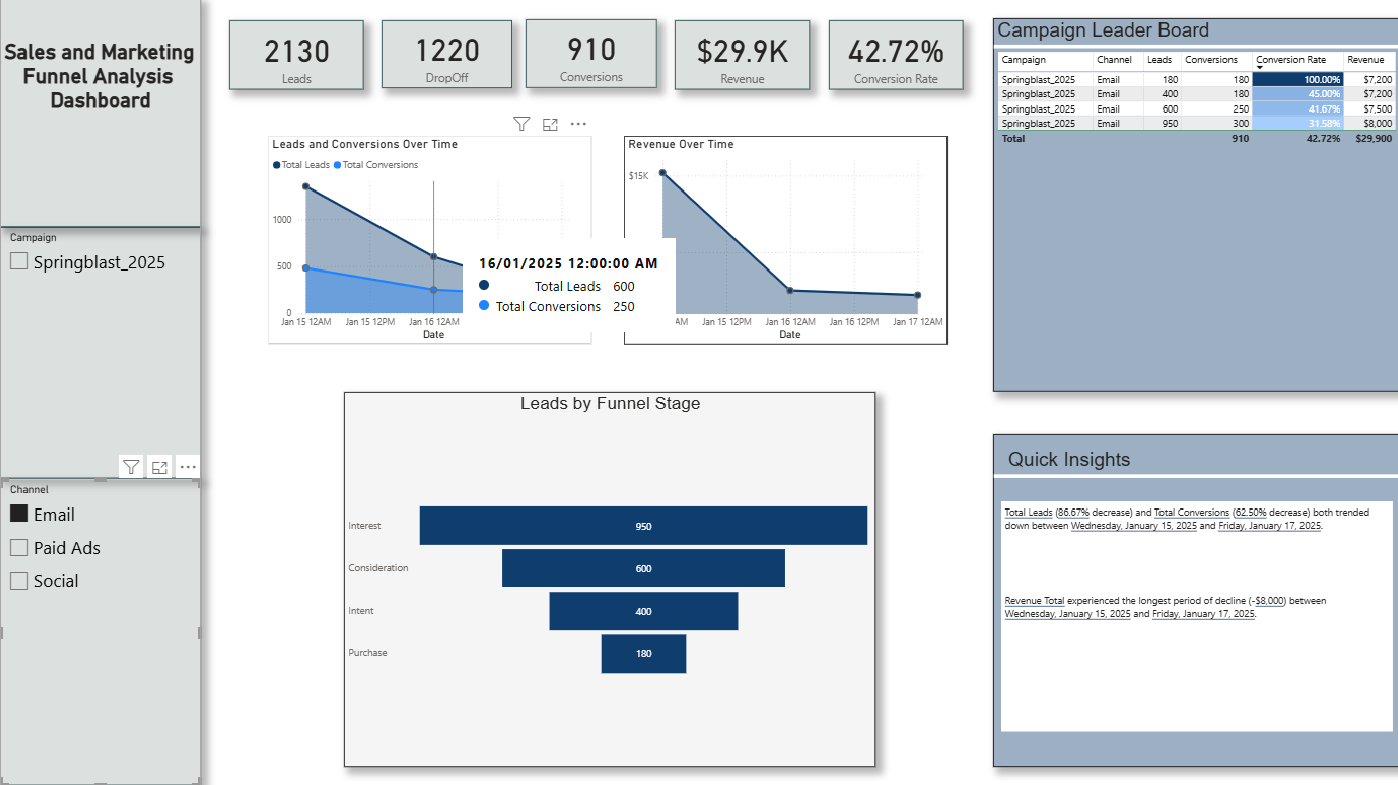

This screenshot's page, from the dashboard's own definition file:
{"tool":"powerbi","page":{"name":"Sales and Marketing Funnel Analysis","canvas":[1920,1080],"ordinal":0},"visuals":[{"type":"card","fields":{"Values":["Sum(CleanFunnelData.Leads)"]},"box":[314.3,30.9,184,95.4],"z":0},{"type":"card","fields":{"Values":["CleanFunnelData.Total Conversions"]},"box":[720,29.6,180,94],"z":1000},{"type":"card","fields":{"Values":["CleanFunnelData.Revenue T"]},"box":[924.2,30.9,185.4,95.4],"z":2000},{"type":"slicer","fields":{"Values":["CleanFunnelData.Campaign"]},"box":[0,314.3,275.4,345.2],"z":2000,"group":"g1"},{"type":"card","fields":{"Values":["CleanFunnelData.DropOff"]},"box":[522.5,30.9,178.7,92.7],"z":3000},{"type":"card","fields":{"Values":["CleanFunnelData.Conversion Rate"]},"box":[1135.1,30.9,184,95.4],"z":4000},{"type":"tableEx","title":"Campaign Leader Board","fields":{"Values":["CleanFunnelData.Campaign","CleanFunnelData.Leads","Sum(CleanFunnelData.Conversions)","CleanFunnelData.Conversion Rate","CleanFunnelData.Revenue Total"]},"box":[1359.4,28.2,560.1,511.8],"z":5000},{"type":"funnel","title":"Leads by Funnel Stage","fields":{"Category":["CleanFunnelData.Funnel Stage"],"Y":["CleanFunnelData.Leads_YTD"]},"box":[470.1,540,728.1,514.5],"z":6000},{"type":"lineChart","title":"Leads and Conversions Over Time","fields":{"Y":["CleanFunnelData.Total Leads","CleanFunnelData.Total Conversions"],"Category":["DateTable.Date"]},"box":[366.7,189.4,443.3,287.5],"z":7000},{"type":"lineChart","title":"Revenue Over Time","fields":{"Category":["DateTable.Date"],"Y":["CleanFunnelData.Revenue Total"]},"box":[854.3,189.4,443.3,287.5],"z":8000},{"type":"textbox","title":"Quick Insights","box":[1359.4,597.8,560.1,456.7],"z":9000},{"type":"group","id":"g1","title":"Group 1","box":[0,0,275.4,1080],"z":10000},{"type":"textbox","box":[1371.5,690.4,536,315.7],"z":10001},{"type":"slicer","fields":{"Values":["CleanFunnelData.Channel"]},"box":[0,659.6,275.4,420.4],"z":12000,"group":"g1"},{"type":"textbox","box":[0,0,275.4,314.3],"z":13000,"group":"g1"}]}

Visuals, with their boxes on the page's 1920x1080 design canvas (x1, y1, x2, y2). These are canvas units, not pixel positions in the 1398x785 screenshot, which may show the page scaled, cropped or inside an application window:
card - Sum(CleanFunnelData.Leads): bbox(314, 31, 498, 126)
card - CleanFunnelData.Total Conversions: bbox(720, 30, 900, 124)
card - CleanFunnelData.Revenue T: bbox(924, 31, 1110, 126)
slicer - CleanFunnelData.Campaign: bbox(0, 314, 275, 660)
card - CleanFunnelData.DropOff: bbox(522, 31, 701, 124)
card - CleanFunnelData.Conversion Rate: bbox(1135, 31, 1319, 126)
"Campaign Leader Board" tableEx: bbox(1359, 28, 1920, 540)
"Leads by Funnel Stage" funnel: bbox(470, 540, 1198, 1054)
"Leads and Conversions Over Time" lineChart: bbox(367, 189, 810, 477)
"Revenue Over Time" lineChart: bbox(854, 189, 1298, 477)
"Quick Insights" textbox: bbox(1359, 598, 1920, 1054)
"Group 1" group: bbox(0, 0, 275, 1080)
textbox: bbox(1372, 690, 1908, 1006)
slicer - CleanFunnelData.Channel: bbox(0, 660, 275, 1080)
textbox: bbox(0, 0, 275, 314)
